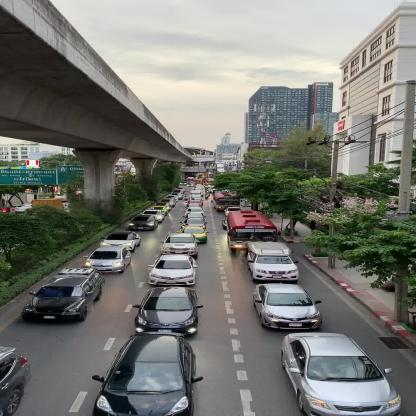bus: (228, 210, 281, 256)
car: (280, 332, 403, 416), (93, 331, 204, 416), (22, 268, 100, 323), (254, 283, 323, 332), (136, 288, 200, 335), (245, 242, 299, 282), (147, 255, 200, 286), (82, 246, 130, 272), (98, 232, 142, 250), (158, 233, 194, 254), (180, 226, 209, 243), (128, 215, 157, 230)
